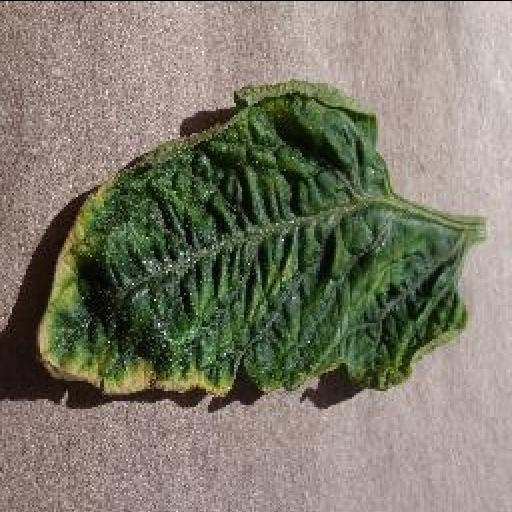disease_tomato: (30, 81, 470, 397)
